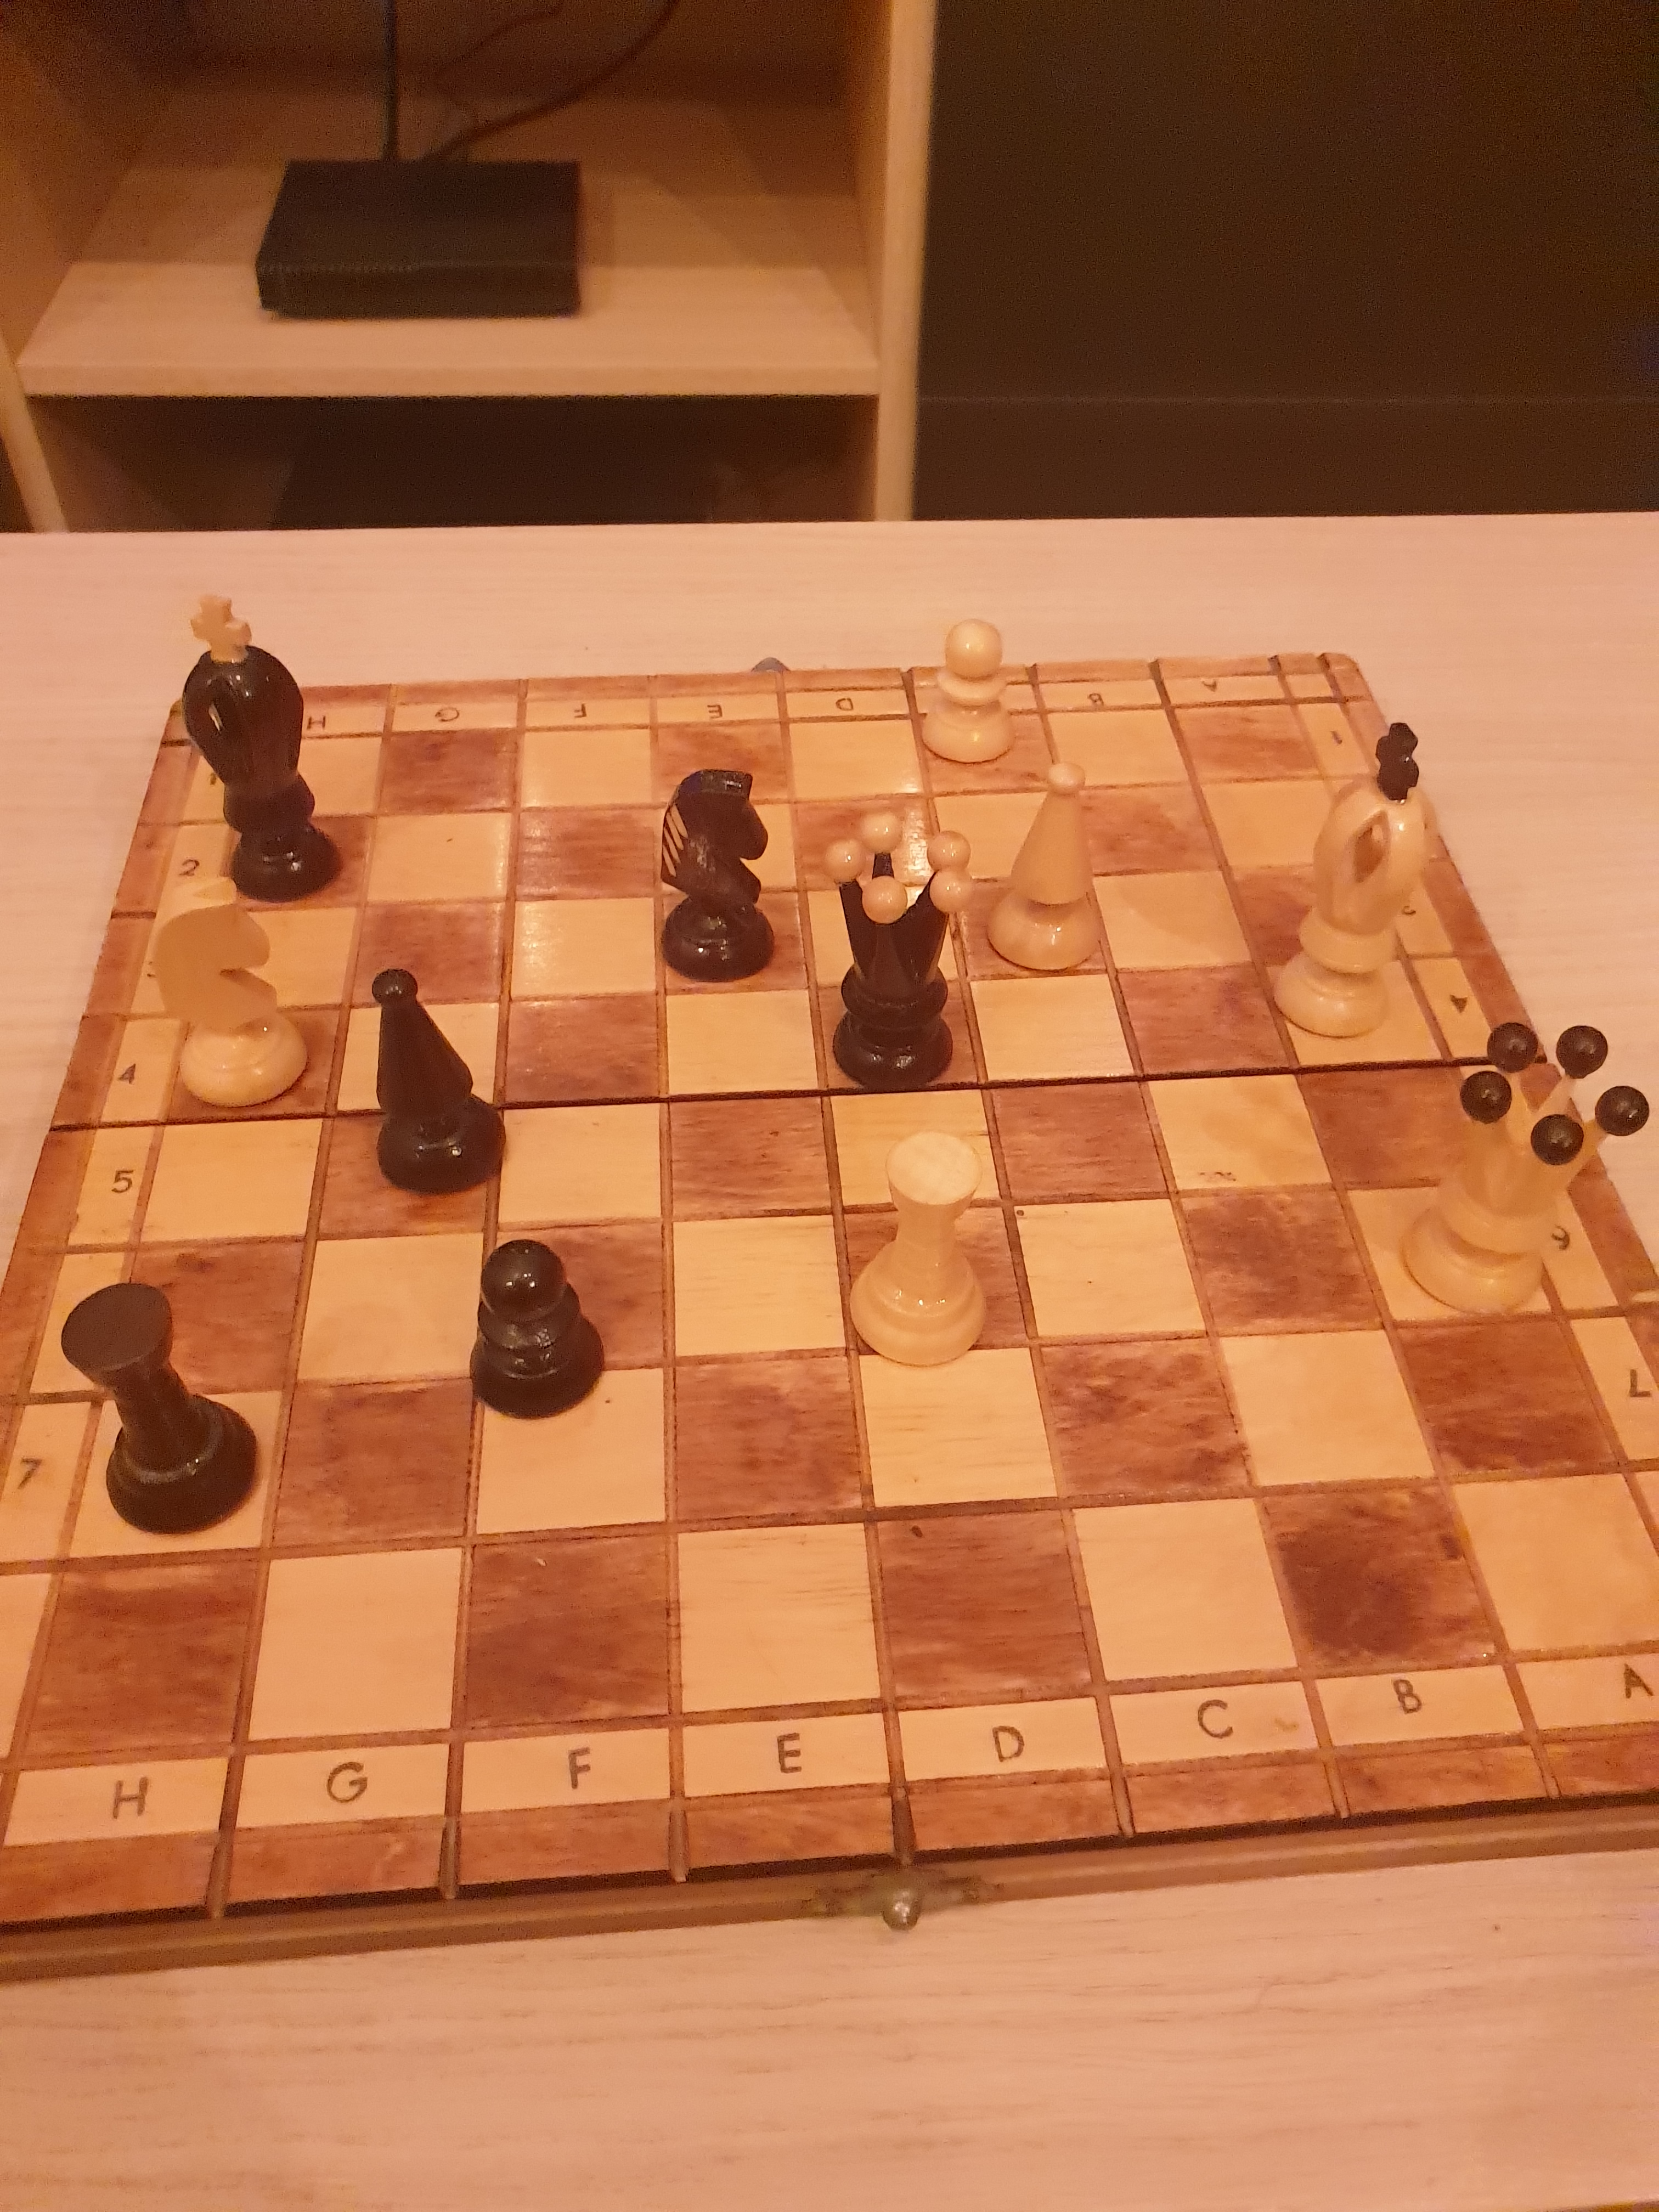bbishop: (354, 960, 519, 1204)
bking: (171, 585, 352, 900)
bknight: (648, 758, 788, 996)
bpawn: (460, 1226, 617, 1433)
bqueen: (812, 810, 976, 1094)
brook: (54, 1268, 272, 1543)
wbishop: (976, 754, 1117, 993)
wking: (1263, 702, 1436, 1059)
wknight: (138, 866, 315, 1118)
wpawn: (918, 610, 1019, 784)
wqueen: (1392, 1012, 1656, 1343)
wrook: (835, 1127, 1011, 1379)
